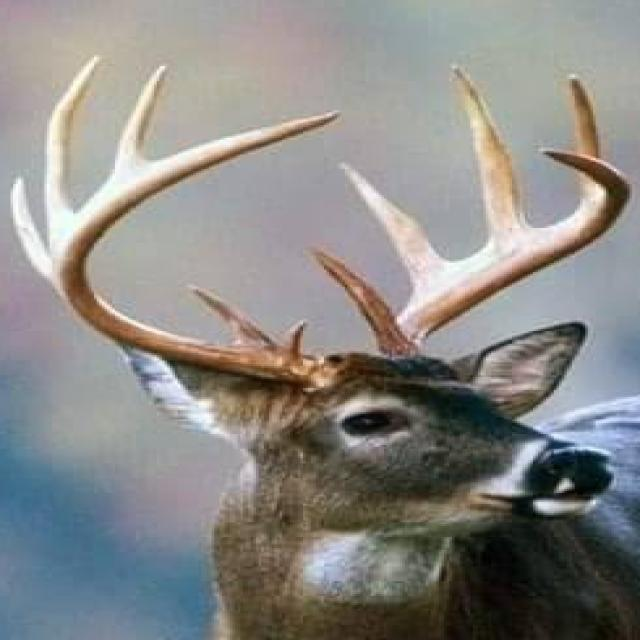L-F: (377, 148, 635, 360)
L-G1: (298, 247, 397, 342)
L-G2: (335, 160, 452, 288)
L-G3: (448, 63, 532, 244)
R-F: (51, 109, 346, 395)
R-G1: (280, 318, 310, 356)
R-G2: (186, 283, 279, 345)
R-G3: (8, 174, 49, 284)
R-G4: (44, 54, 103, 250)
R-G5: (111, 59, 173, 176)
